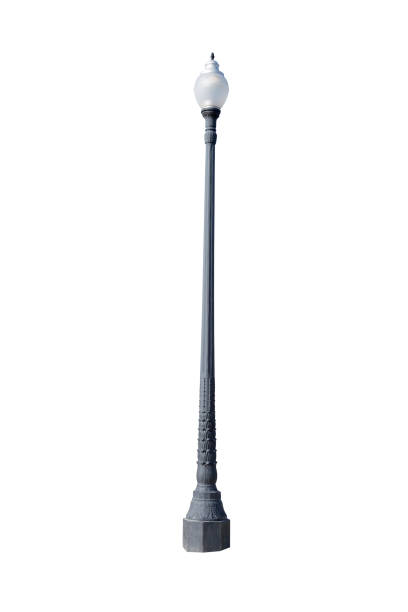light_pole: (176, 73, 226, 550)
